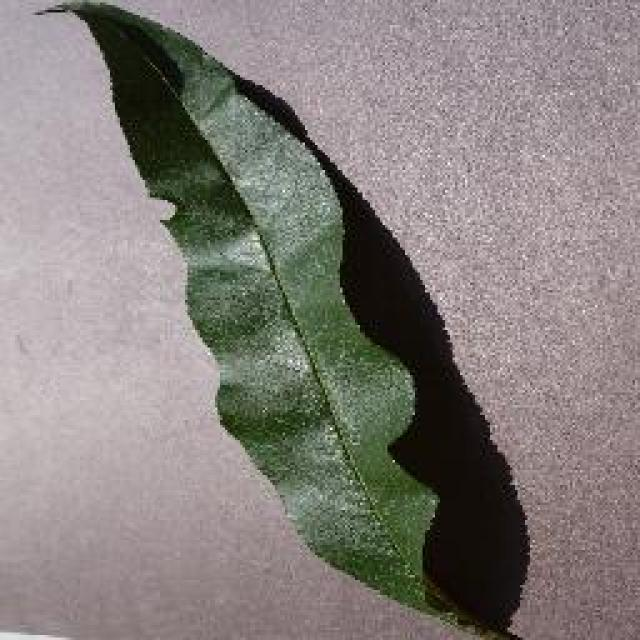Pea_healthy: (120, 30, 432, 575)
